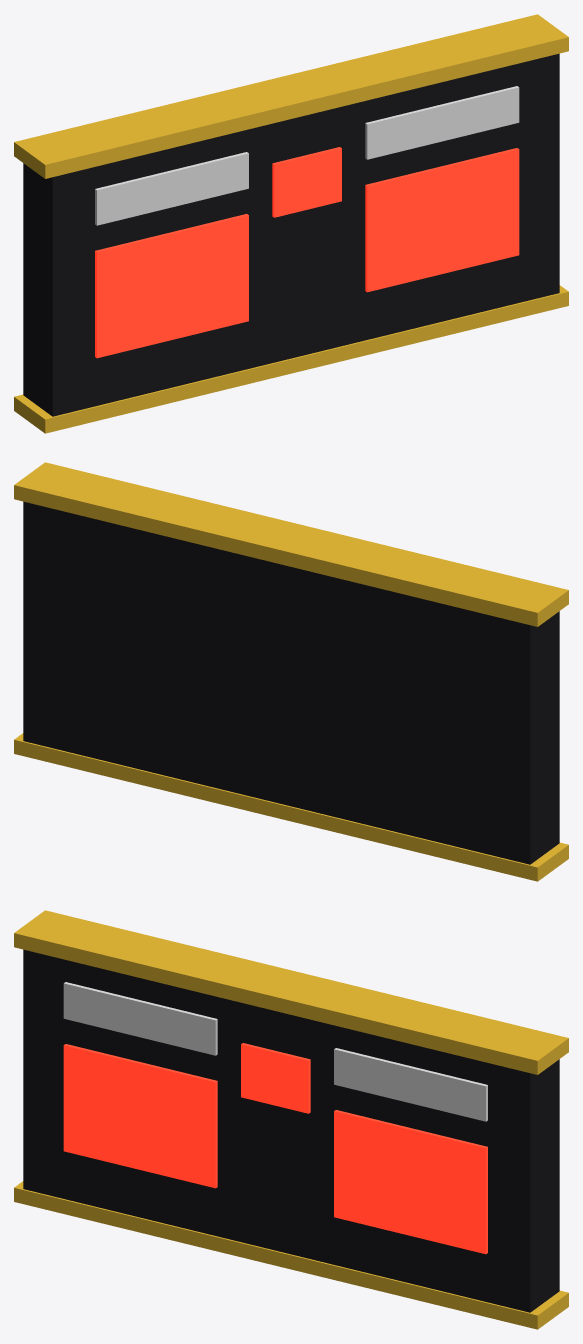
File: rink_scoreboard.glb
The picture shows the model from 3 angles, top to bottom: view 1: azimuth 30°, elevation 25°; view 2: azimuth 150°, elevation 25°; view 3: azimuth 330°, elevation 25°; orthographic projection.
Visible parts, largest first — view 1: board_score_black, digits_score_digit, frame_score_frame, plate_score_plate (×2), clock_score_digit; view 2: board_score_black, frame_score_frame; view 3: board_score_black, digits_score_digit, frame_score_frame, plate_score_plate (×2), clock_score_digit.
Boxes of the visible parts, x1,y1,x2,y2 form: board_score_black: [23, 53, 559, 416]; digits_score_digit: [95, 148, 519, 358]; frame_score_frame: [14, 14, 568, 433]; plate_score_plate (×2): [95, 86, 519, 225]; clock_score_digit: [272, 147, 341, 217]; board_score_black: [23, 501, 559, 864]; frame_score_frame: [14, 462, 568, 881]; board_score_black: [23, 949, 559, 1312]; digits_score_digit: [63, 1044, 487, 1254]; frame_score_frame: [14, 910, 568, 1329]; plate_score_plate (×2): [63, 982, 487, 1121]; clock_score_digit: [241, 1043, 310, 1113].
Size of the model in its own units: 3.1 by 1.52 by 0.33.
